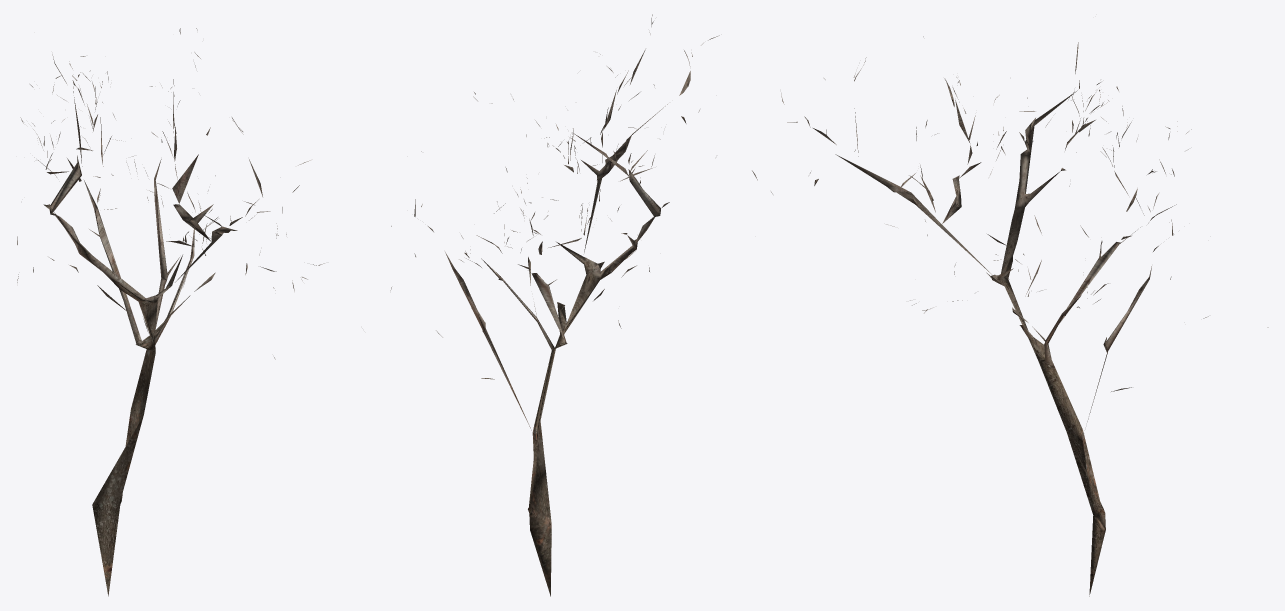
The model's file is tree_small_02.glb.
3 views of the same model, side by side, from view 1: azimuth 30°, elevation 25°; view 2: azimuth 150°, elevation 25°; view 3: azimuth 270°, elevation 25° (orthographic). The views are drawn at different scales.
Visible parts, largest first — view 1: tree_small_02_LOD0; view 2: tree_small_02_LOD0; view 3: tree_small_02_LOD0.
Part boxes in pixels (x1,y1,x2,y2): tree_small_02_LOD0: (17, 28, 324, 596); tree_small_02_LOD0: (390, 14, 719, 596); tree_small_02_LOD0: (752, 36, 1268, 596).
Bounding box in the file's own units: 1.84 × 4.35 × 3.71.
2 materials, 2 textured.
